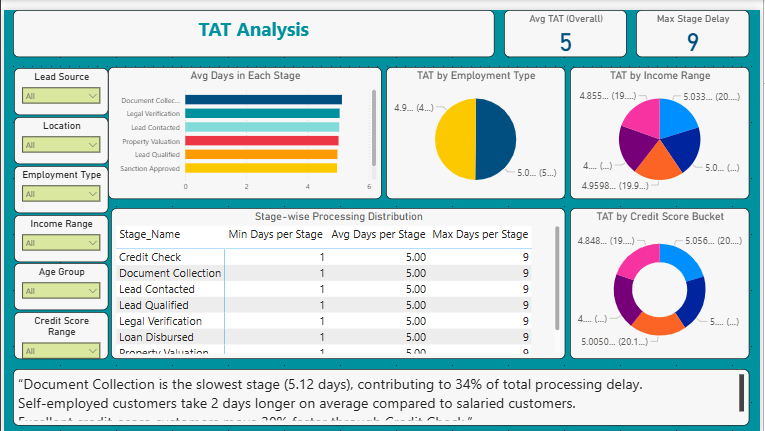

Layout of this report page (visuals, bound fields, positions):
{"tool":"powerbi","page":{"name":"TAT Analysis","canvas":[1280,720],"ordinal":3},"visuals":[{"type":"card","title":"Avg TAT (Overall)","fields":{"Values":["Key_Measures.Avg TAT Overall"]},"box":[848,0,208,80],"z":0},{"type":"card","title":"Max Stage Delay","fields":{"Values":["Key_Measures.Max Stage Delay"]},"box":[1072,0,192,80],"z":1000},{"type":"slicer","title":"Lead Source","fields":{"Values":["Lead_Master.Lead_Source"]},"box":[16.1,98.7,160,80],"z":2000},{"type":"slicer","title":"Location","fields":{"Values":["Lead_Master.Location"]},"box":[16.1,181.3,160,80],"z":3000},{"type":"slicer","title":"Employment Type","fields":{"Values":["Lead_Master.Employment_Type"]},"box":[16.1,264,160,80],"z":4000},{"type":"slicer","title":"Income Range","fields":{"Values":["Lead_Master.Income Range"]},"box":[16.1,346.7,160,80],"z":5000},{"type":"slicer","title":"Credit Score Range","fields":{"Values":["Credit_Assessment.Credit Score Range"]},"box":[16.1,512,160,80],"z":6000},{"type":"slicer","title":"Age Group","fields":{"Values":["Lead_Master.Age Group"]},"box":[16.1,429.3,160,80],"z":7000},{"type":"barChart","title":"Avg Days in Each Stage","fields":{"Y":["Key_Measures.Avg Days in Stage"],"Category":["Stage_TimeAnalysis.Stage_Name"]},"box":[176,96,464,224],"z":8000},{"type":"pieChart","title":"TAT by Employment Type","fields":{"Category":["Lead_Master.Employment_Type"],"Y":["Key_Measures.Avg Days in Stage"]},"box":[648,96,304,224],"z":9000},{"type":"donutChart","title":"TAT by Credit Score Bucket","fields":{"Category":["Lead_Master.Income Range"],"Y":["Key_Measures.Avg Days in Stage"]},"box":[960,336,304,256],"z":10000},{"type":"pieChart","title":"TAT by Income Range","fields":{"Y":["Key_Measures.Avg Days in Stage"],"Category":["Credit_Assessment.Credit Score Range"]},"box":[960,96,304,224],"z":11000},{"type":"pivotTable","title":"Stage-wise Processing Distribution","fields":{"Rows":["Stage_Tracking.Stage_Name"],"Values":["Key_Measures.Min Days per Stage","Key_Measures.Avg Days per Stage","Key_Measures.Max Days per Stage"]},"box":[182,336,770,256],"z":12000},{"type":"textbox","box":[16,608,1248,96],"z":13000},{"type":"textbox","box":[16,0,816,80],"z":14000}]}

Visuals, with their boxes in screenshot pixels (x1, y1, x2, y2), scaled from the page's 1280x720 canvas onto the 765x431 screenshot:
"Avg TAT (Overall)" card: detection(507, 0, 631, 48)
"Max Stage Delay" card: detection(641, 0, 755, 48)
"Lead Source" slicer: detection(10, 59, 105, 107)
"Location" slicer: detection(10, 109, 105, 156)
"Employment Type" slicer: detection(10, 158, 105, 206)
"Income Range" slicer: detection(10, 208, 105, 255)
"Credit Score Range" slicer: detection(10, 306, 105, 354)
"Age Group" slicer: detection(10, 257, 105, 305)
"Avg Days in Each Stage" barChart: detection(105, 57, 382, 192)
"TAT by Employment Type" pieChart: detection(387, 57, 569, 192)
"TAT by Credit Score Bucket" donutChart: detection(574, 201, 755, 354)
"TAT by Income Range" pieChart: detection(574, 57, 755, 192)
"Stage-wise Processing Distribution" pivotTable: detection(109, 201, 569, 354)
textbox: detection(10, 364, 755, 421)
textbox: detection(10, 0, 497, 48)
